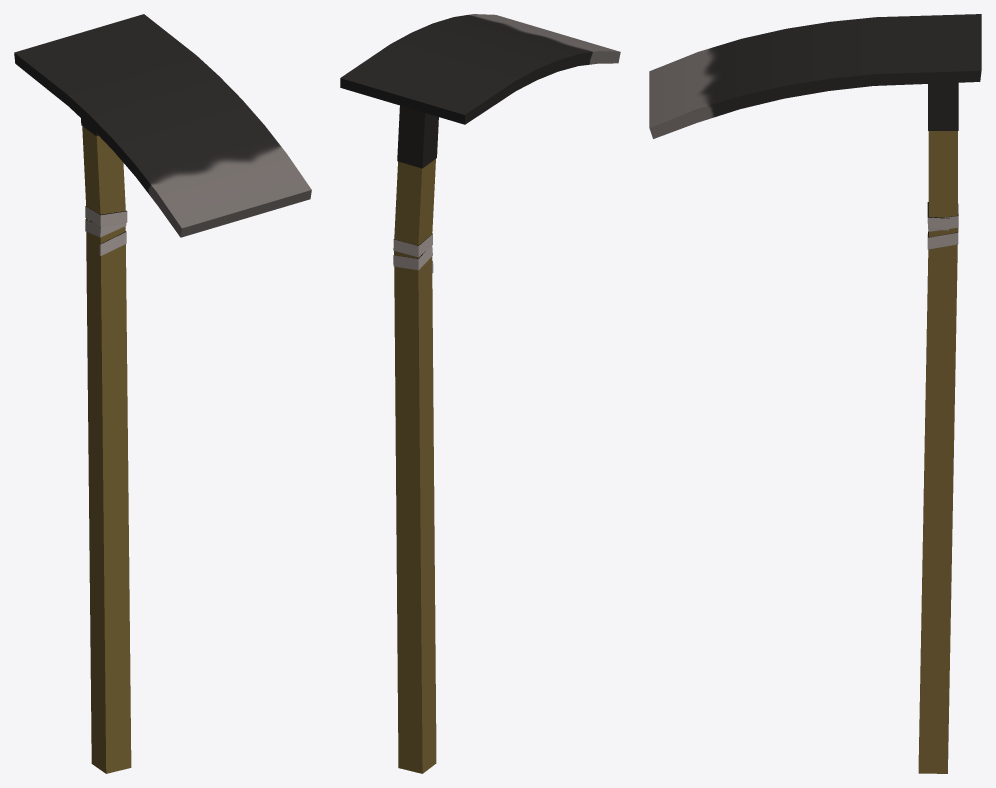
The model's file is hoe2.fbx.
The picture shows the model from 3 angles, left to right: view 1: azimuth 30°, elevation 25°; view 2: azimuth 150°, elevation 25°; view 3: azimuth 270°, elevation 25°; orthographic projection. The views are drawn at different scales.
Parts seen in each view (by area): view 1: Cube.002; view 2: Cube.002; view 3: Cube.002.
Part boxes in pixels (left/top/right/bottom): Cube.002: left=14, top=14, right=311, bottom=773; Cube.002: left=340, top=14, right=620, bottom=773; Cube.002: left=649, top=14, right=981, bottom=773.
Bounding box in the file's own units: 60.63 × 314 × 130.
